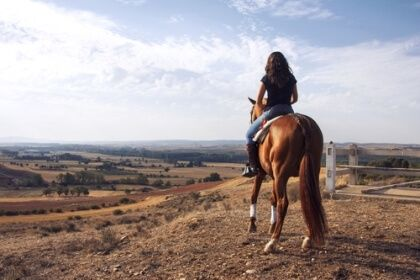horse: (246, 98, 330, 252)
woman: (255, 52, 300, 122)
